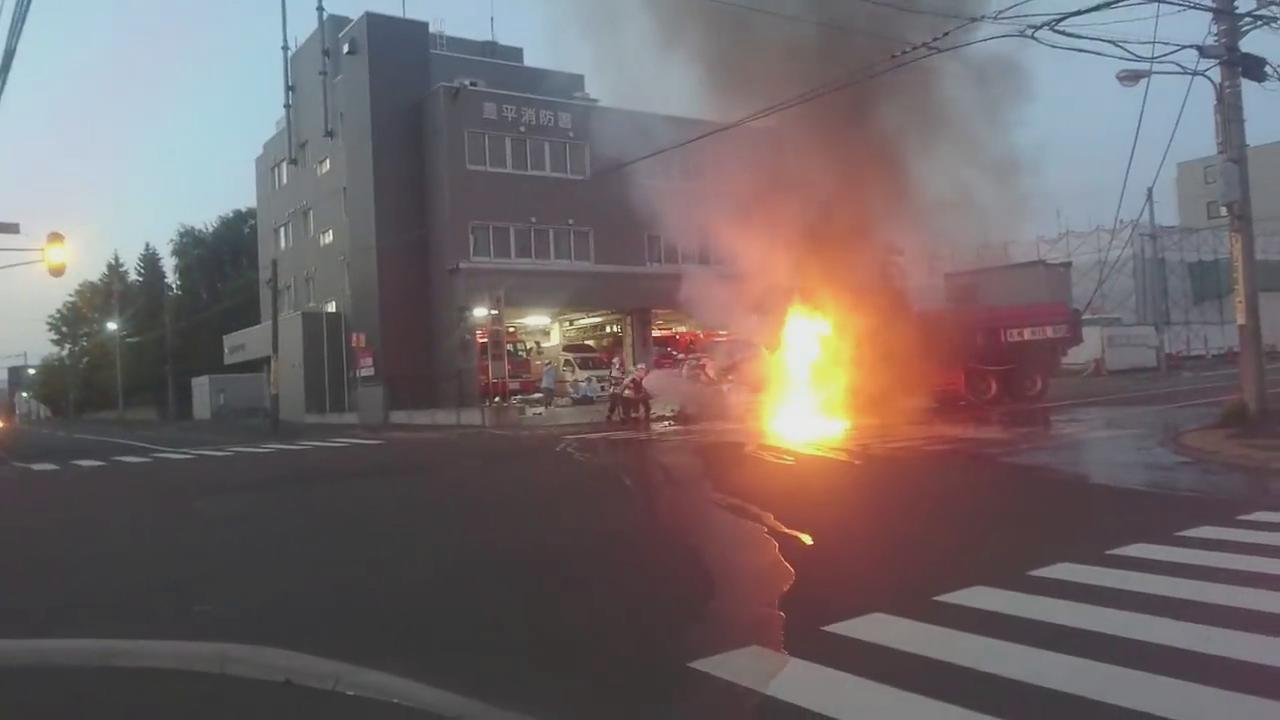Fire: (763, 304, 858, 440)
